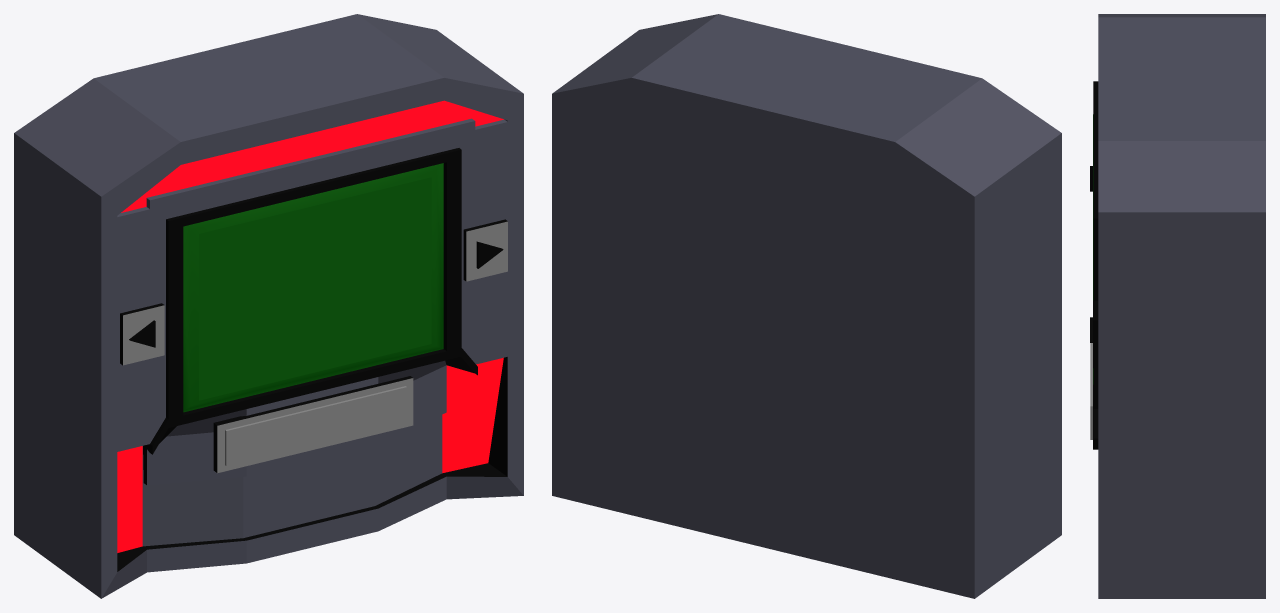
Rendered from UpgradeStation.fbx.
The picture shows the model from 3 angles, left to right: view 1: azimuth 30°, elevation 25°; view 2: azimuth 150°, elevation 25°; view 3: azimuth 270°, elevation 25°; orthographic projection. The views are drawn at different scales.
Visible parts, largest first — view 1: Machine, SelectButton, LButton, RButton; view 2: Machine; view 3: Machine, RButton, SelectButton.
Part boxes in pixels (box(x1,y1,x2,y2)): Machine: box(14, 14, 523, 598); SelectButton: box(213, 376, 413, 473); LButton: box(120, 303, 164, 365); RButton: box(463, 219, 507, 281); Machine: box(552, 14, 1061, 598); Machine: box(1093, 14, 1265, 598); RButton: box(1090, 300, 1098, 368); SelectButton: box(1090, 343, 1098, 449).
Bounding box in the file's own units: 391 × 387 × 146.
